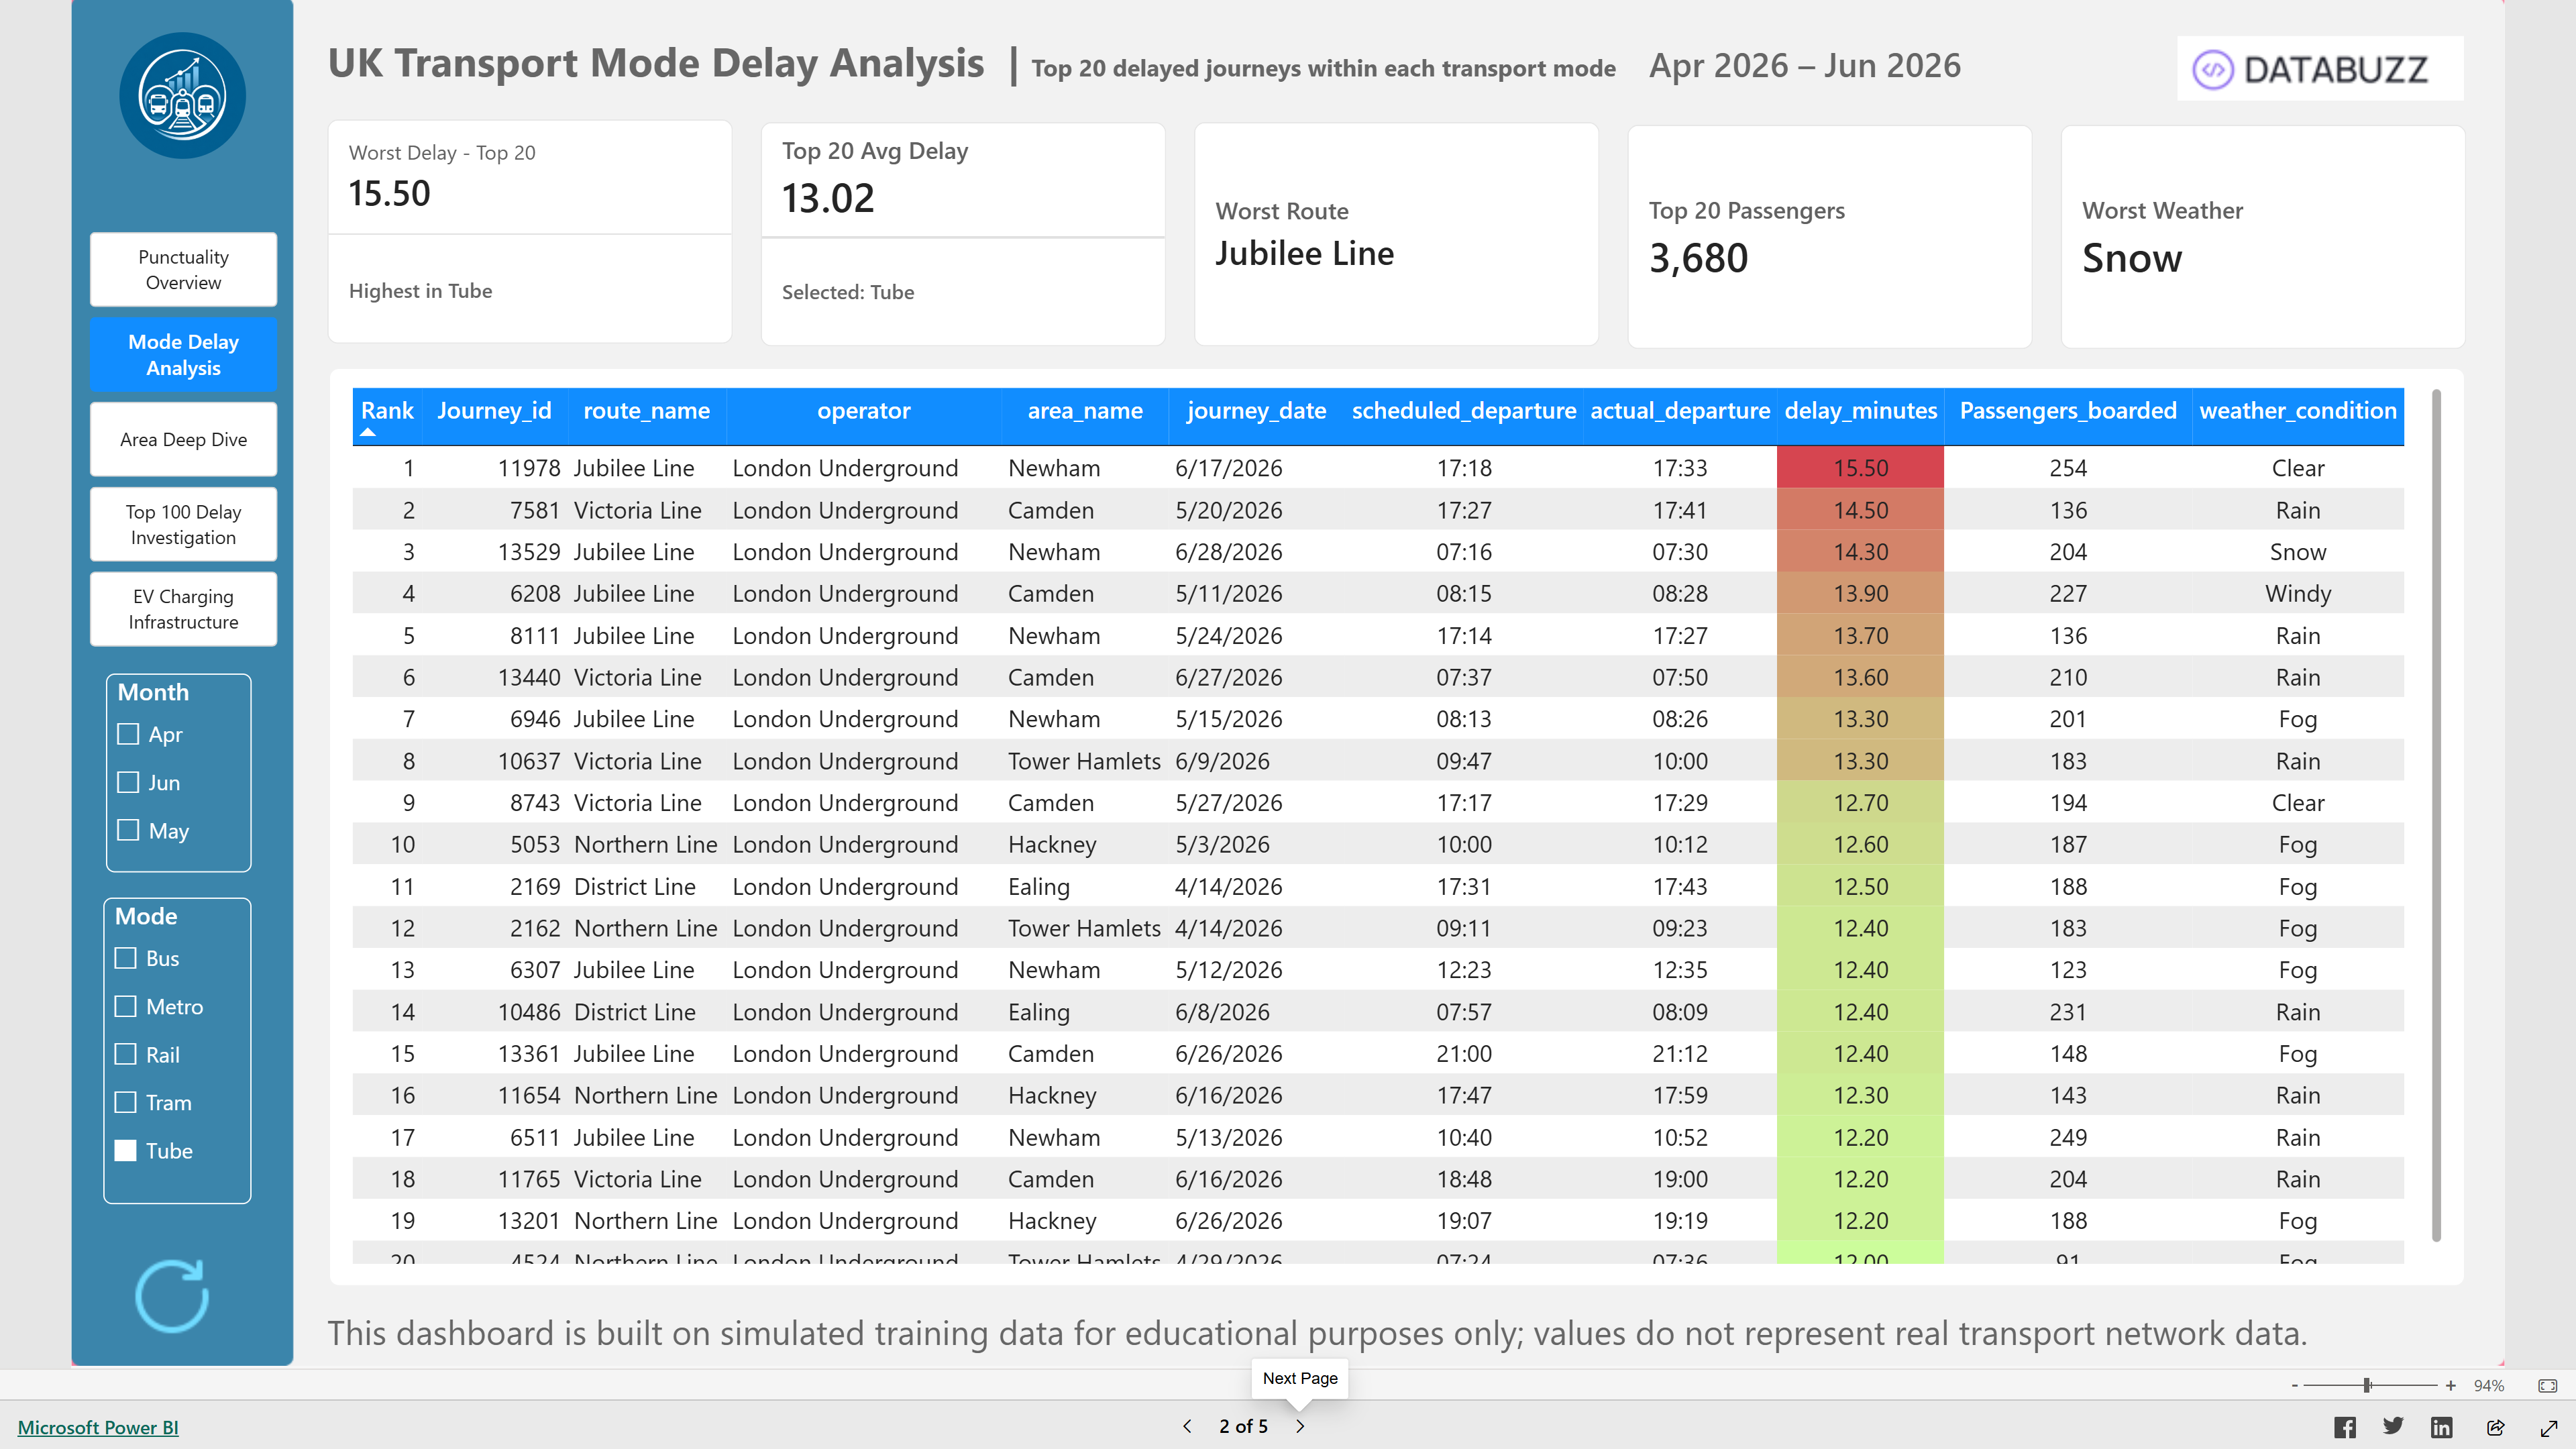

The page's visual inventory and layout, read from the dashboard file:
{"tool":"powerbi","page":{"name":"Mode Delay Analysis","canvas":[1920,1080],"ordinal":1},"visuals":[{"type":"cardVisual","fields":{"Data":["Calculations.Worst Delay - Top 20"]},"box":[202.5,93.9,320,177.4],"z":0},{"type":"cardVisual","fields":{"Data":["Calculations.Top 20 Avg Delay"]},"box":[544.4,95.9,320,177.4],"z":1000},{"type":"cardVisual","fields":{"Data":["Calculations.Worst Route"]},"box":[886.3,95.9,320,177.4],"z":2000},{"type":"cardVisual","fields":{"Data":["Calculations.Top 20 Passengers"]},"box":[1228.2,98,320,177.4],"z":3000},{"type":"cardVisual","fields":{"Data":["Calculations.Worst Weather"]},"box":[1570,98.9,320,177.4],"z":4000},{"type":"image","box":[1662.5,25.5,226.2,57.5],"z":5000},{"type":"textbox","box":[202,25.5,1046,57.4],"z":6000},{"type":"cardVisual","fields":{"Data":["Calculations.Selected Period"]},"box":[1228.8,2.1,320,95],"z":7000},{"type":"textbox","box":[202.5,1032.5,1652.5,47.5],"z":12000},{"type":"slicer","fields":{"Values":["Calendar.Month"]},"box":[27.6,531.5,114.8,157.3],"z":13000},{"type":"image","box":[38.3,25.5,99.9,99.9],"z":14000},{"type":"tableEx","fields":{"Values":["Sum(vw_Top20_Delayed_By_Mode.mode_delay_rank)","Sum(vw_Top20_Delayed_By_Mode.journey_id)","vw_Top20_Delayed_By_Mode.route_name","vw_Top20_Delayed_By_Mode.operator","vw_Top20_Delayed_By_Mode.area_name","vw_Top20_Delayed_By_Mode.journey_date","vw_Top20_Delayed_By_Mode.scheduled_departure","vw_Top20_Delayed_By_Mode.actual_departure","Sum(vw_Top20_Delayed_By_Mode.delay_minutes)","Sum(vw_Top20_Delayed_By_Mode.passengers_boarded)","vw_Top20_Delayed_By_Mode.weather_condition"]},"box":[204.1,291.3,1683.8,722.8],"z":14001},{"type":"slicer","fields":{"Values":["vw_Top20_Delayed_By_Mode.mode"]},"box":[25.5,708,116.9,242.4],"z":14002},{"type":"pageNavigator","box":[14.9,182.8,148.8,329.5],"z":14003},{"type":"image","box":[21.3,984.3,116.9,76.5],"z":14004}]}

Visuals, with their boxes on the page's 1920x1080 design canvas (x1, y1, x2, y2). These are canvas units, not pixel positions in the 2576x1449 screenshot, which may show the page scaled, cropped or inside an application window:
cardVisual - Calculations.Worst Delay - Top 20: 202/94/522/271
cardVisual - Calculations.Top 20 Avg Delay: 544/96/864/273
cardVisual - Calculations.Worst Route: 886/96/1206/273
cardVisual - Calculations.Top 20 Passengers: 1228/98/1548/275
cardVisual - Calculations.Worst Weather: 1570/99/1890/276
image: 1662/26/1889/83
textbox: 202/26/1248/83
cardVisual - Calculations.Selected Period: 1229/2/1549/97
textbox: 202/1032/1855/1080
slicer - Calendar.Month: 28/532/142/689
image: 38/26/138/125
tableEx - Sum(vw_Top20_Delayed_By_Mode.mode_delay_rank) x Sum(vw_Top20_Delayed_By_Mode.journey_id): 204/291/1888/1014
slicer - vw_Top20_Delayed_By_Mode.mode: 26/708/142/950
pageNavigator: 15/183/164/512
image: 21/984/138/1061
